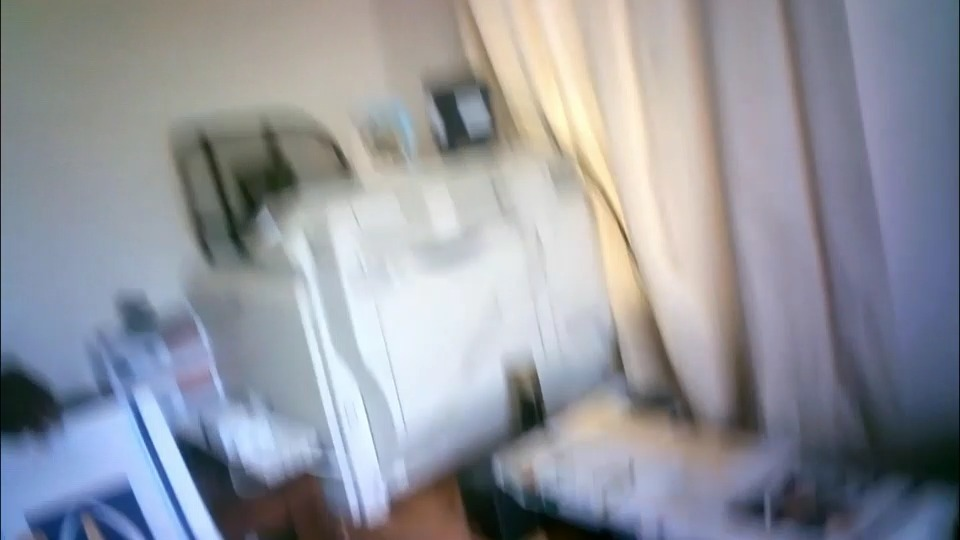wheat_flour_blue_label: (6, 391, 226, 539)
